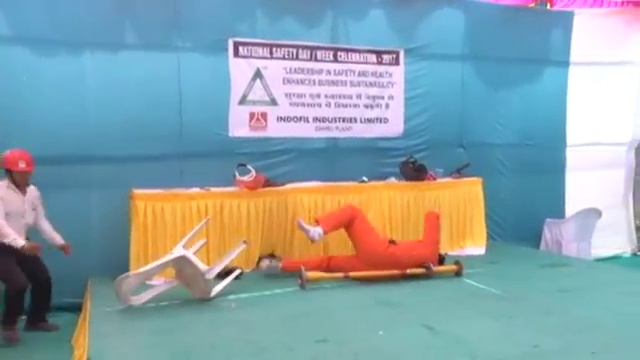helmet: (1, 147, 36, 175)
helmet_on: (1, 146, 36, 191)
person: (1, 145, 75, 346), (264, 205, 446, 275)
